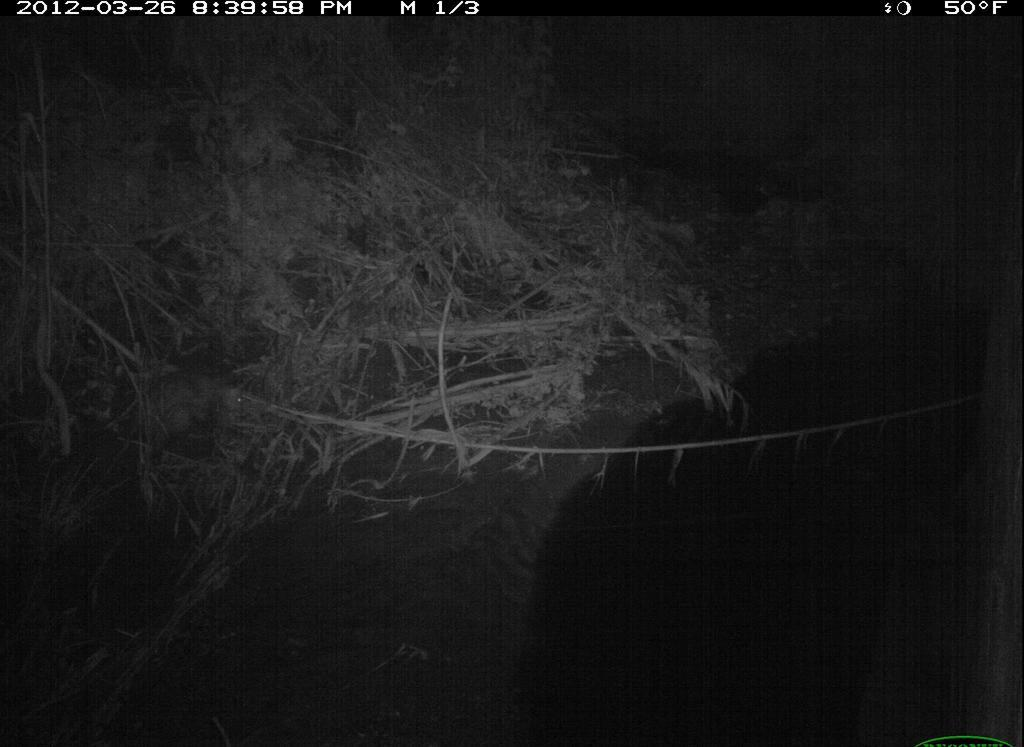opossum: (121, 364, 283, 484)
